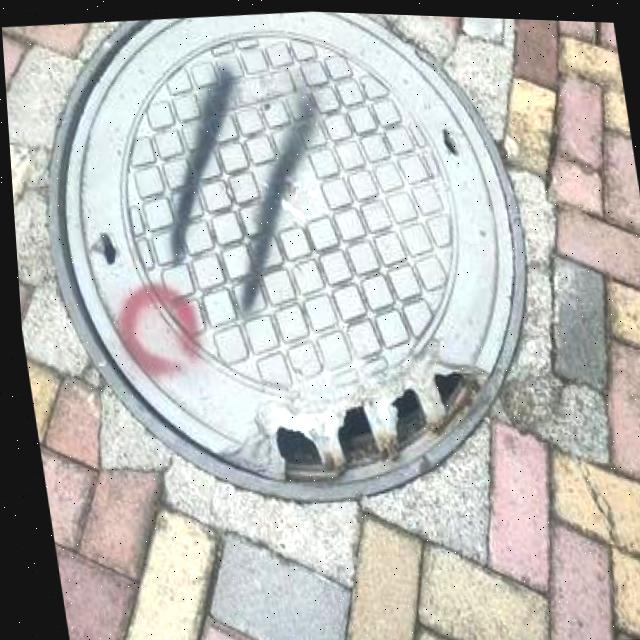manhole: (18, 1, 560, 523)
